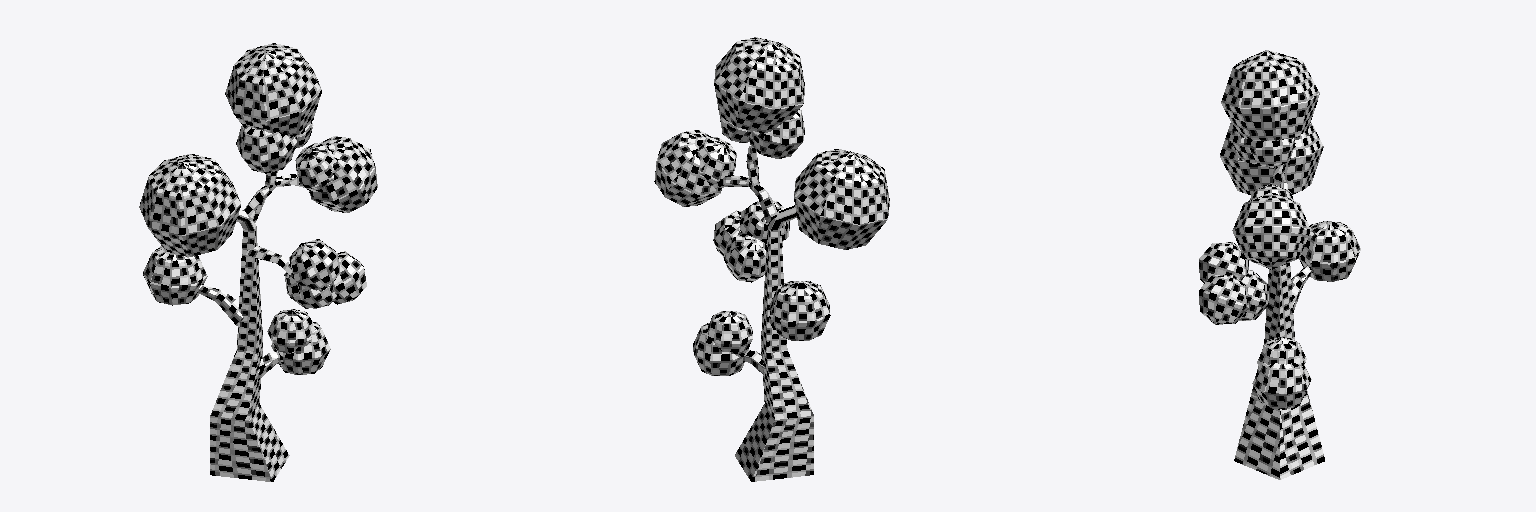
3 views of the same model, side by side, from view 1: azimuth 30°, elevation 25°; view 2: azimuth 150°, elevation 25°; view 3: azimuth 270°, elevation 25° (orthographic).
Visible parts, largest first — view 1: Arbol_06; view 2: Arbol_06; view 3: Arbol_06.
Part boxes in pixels (x1,y1,x2,y2): Arbol_06: (139,43,377,481); Arbol_06: (654,37,889,481); Arbol_06: (1199,50,1360,479).
Size of the model in its own units: 32.73 by 57.1 by 20.23.
1 materials, 1 textured.